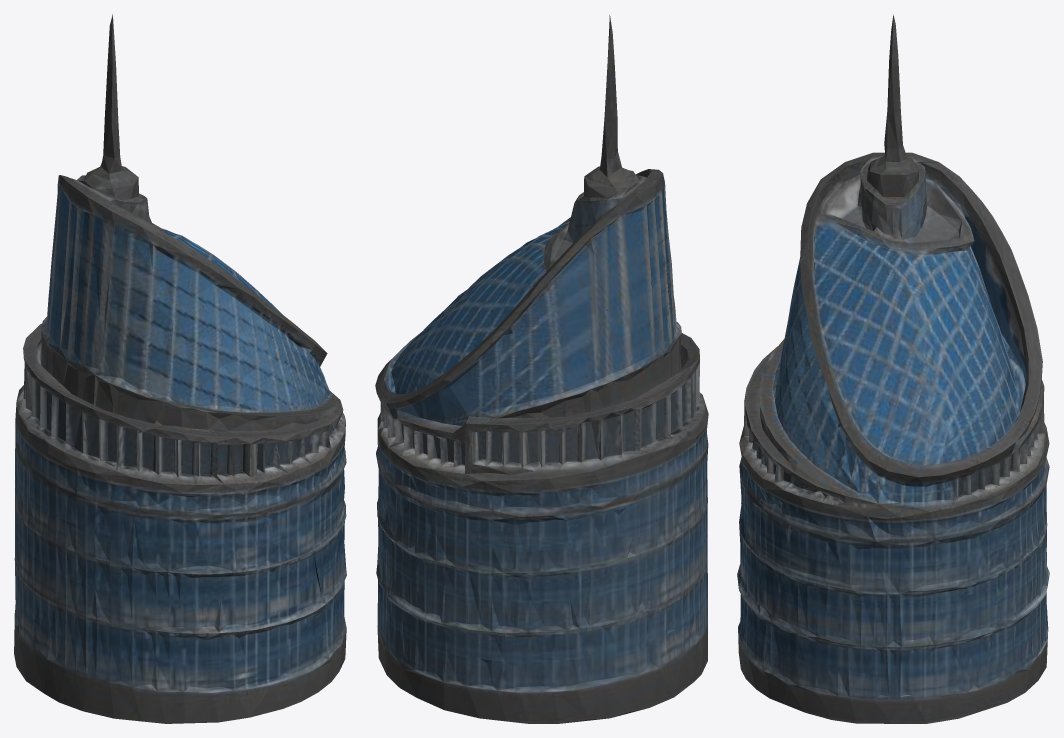
File: kit3-roof.glb
3 views of the same model, side by side, from view 1: azimuth 30°, elevation 25°; view 2: azimuth 150°, elevation 25°; view 3: azimuth 270°, elevation 25° (orthographic). The views are drawn at different scales.
Visible parts, largest first — view 1: Mesh_0.001; view 2: Mesh_0.001; view 3: Mesh_0.001.
Boxes of the visible parts, left/top/right/bottom form: Mesh_0.001: left=14, top=14, right=346, bottom=723; Mesh_0.001: left=375, top=15, right=708, bottom=723; Mesh_0.001: left=737, top=14, right=1049, bottom=723.
Size of the model in its own units: 1 by 2.17 by 0.9993.
1 material, 1 textured.
